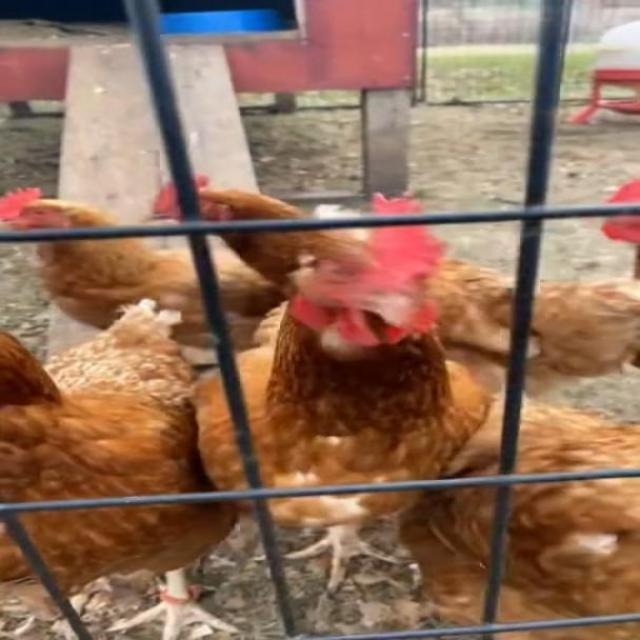Chicken: (185, 193, 491, 591), (134, 176, 640, 396), (0, 299, 240, 640), (393, 393, 640, 640), (0, 187, 294, 351), (581, 180, 640, 277)
